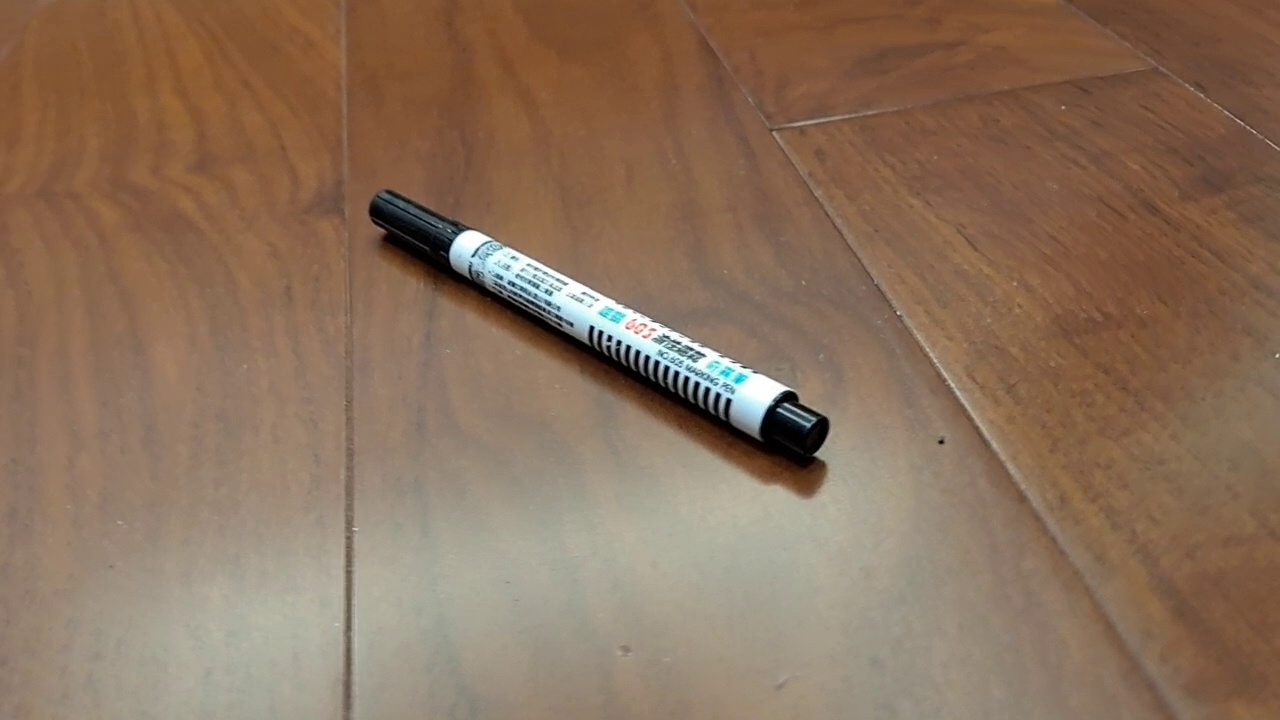pen: (367, 188, 830, 457)
